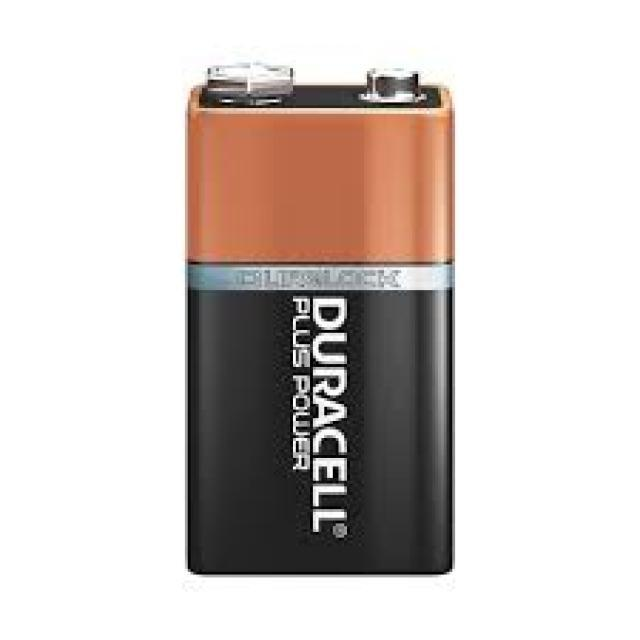Battery: (179, 61, 462, 580)
